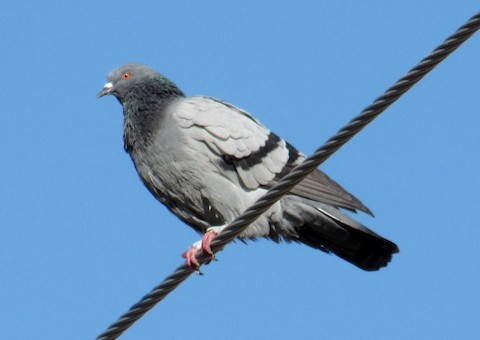pigeon: (94, 58, 402, 280)
